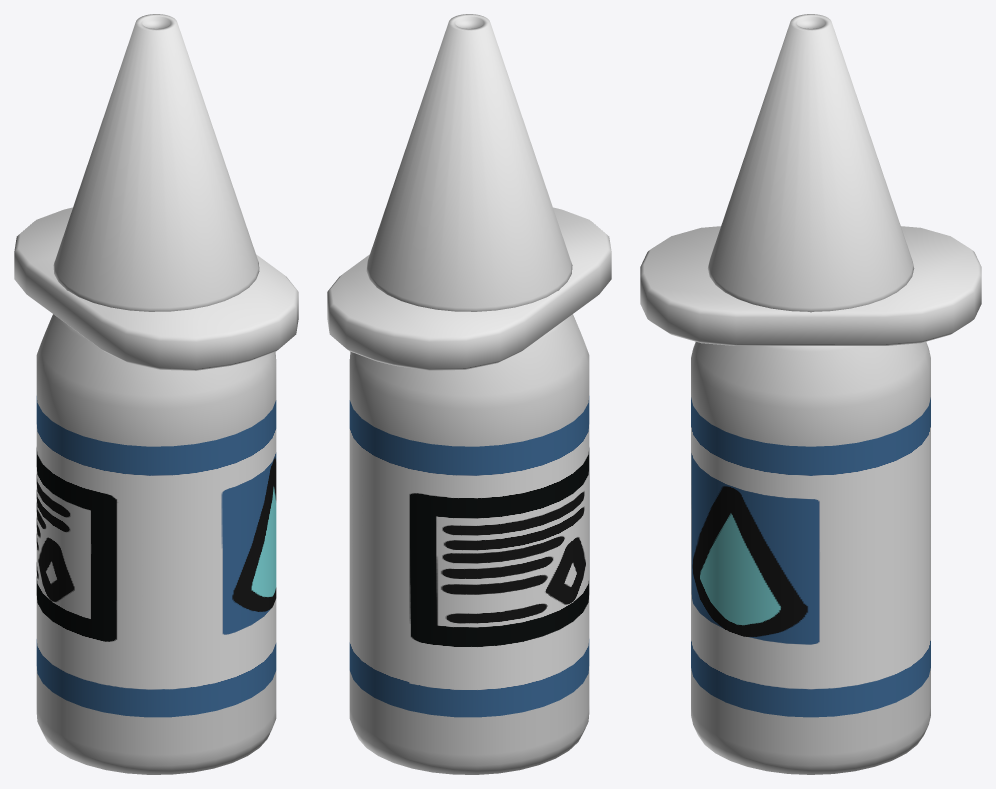
File: EyeDrops.fbx
The picture shows the model from 3 angles, left to right: view 1: azimuth 30°, elevation 25°; view 2: azimuth 150°, elevation 25°; view 3: azimuth 270°, elevation 25°; orthographic projection.
Parts seen in each view (by area): view 1: Cube; view 2: Cube; view 3: Cube.
Part boxes in pixels (x1,y1,x2,y2): Cube: [14, 14, 298, 774]; Cube: [327, 14, 611, 774]; Cube: [640, 14, 981, 774].
Size of the model in its own units: 80 by 260 by 114.
